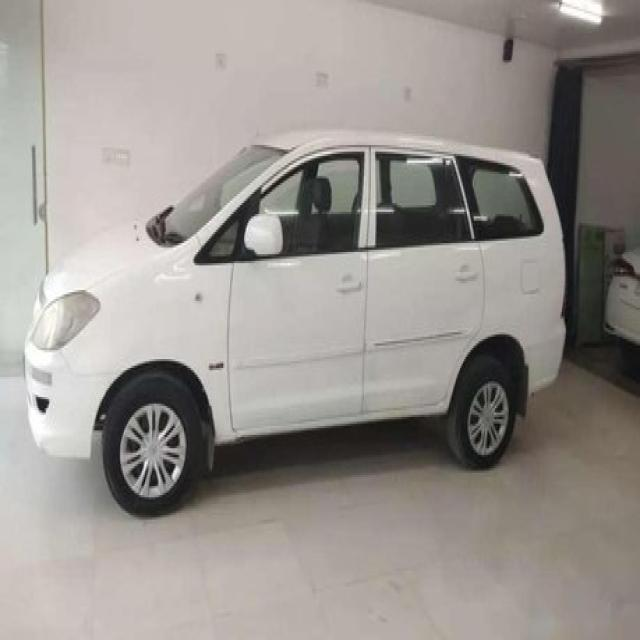light_vehicle: (22, 128, 569, 516)
